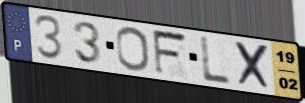3: (33, 14, 64, 61), (71, 21, 103, 65)
F: (151, 28, 191, 78)
L: (199, 35, 234, 86)
O: (114, 25, 152, 73)
X: (233, 39, 273, 92)
